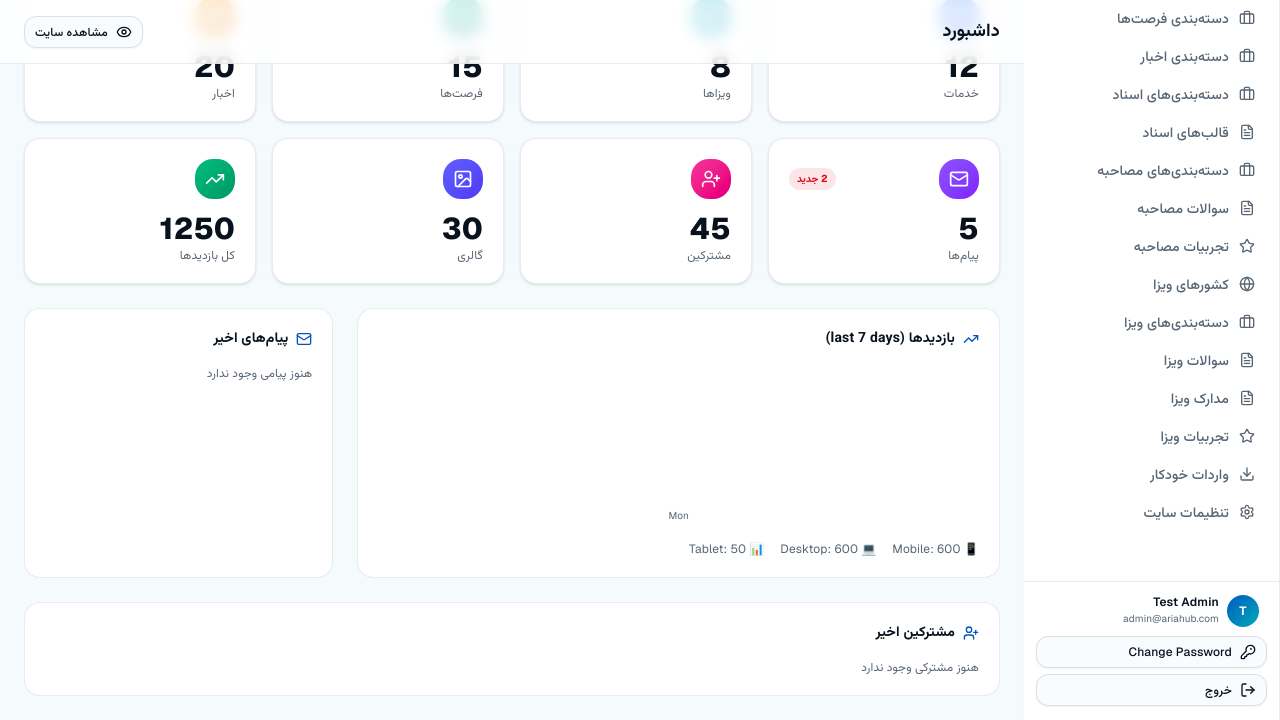
Test: Settings Panel Unit Tests › Section Headers - Requirement 7.3 › renders Theme Colors section header with Persian translation
(page scrolled)
Expected: the text "تنظیمات سایت" is shown, [1144,502,1229,522]
Step 1. Click the button "تنظیمات سایت" → (1152, 512), box [1036,494,1267,530]
(page scrolled)
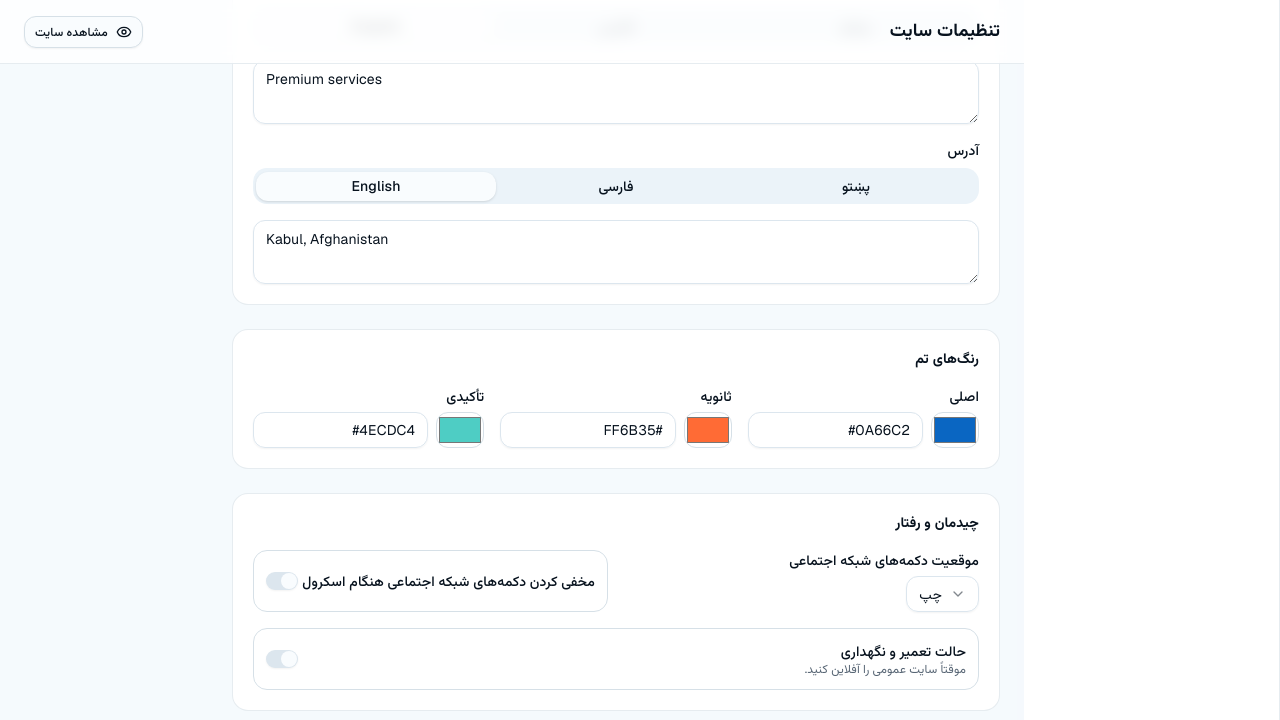
Now the heading "رنگ‌های تم" is shown, box [915,349,979,371]
